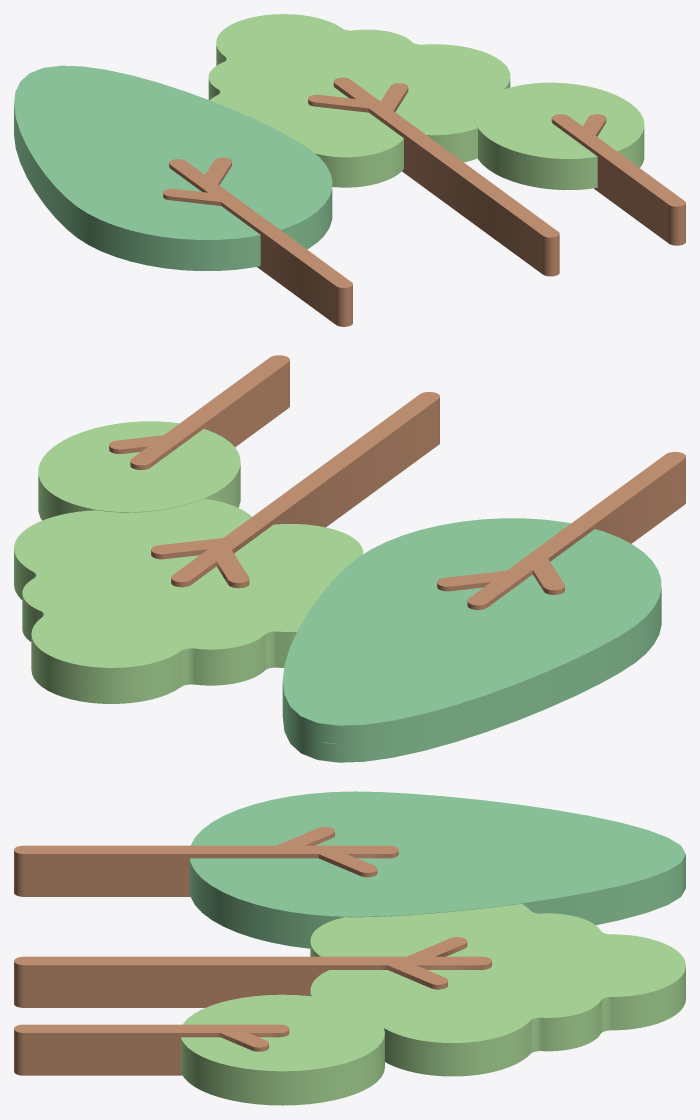
File: pohon2v2.fbx
3 renders of one model, top to bottom at view 1: azimuth 30°, elevation 25°; view 2: azimuth 150°, elevation 25°; view 3: azimuth 270°, elevation 25°, orthographic. The views are drawn at different scales.
Parts seen in each view (by area): view 1: Curve.006, Curve.003, Curve, Curve.005, Curve.008, Curve.002; view 2: Curve.006, Curve.003, Curve, Curve.005, Curve.008, Curve.002; view 3: Curve.006, Curve.003, Curve.005, Curve, Curve.008, Curve.002.
Part boxes in pixels (x1,y1,x2,y2): Curve.006: [14, 65, 332, 270]; Curve.003: [208, 14, 510, 187]; Curve: [474, 82, 644, 190]; Curve.005: [308, 77, 559, 276]; Curve.008: [163, 157, 352, 326]; Curve.002: [551, 114, 685, 245]; Curve.006: [282, 518, 661, 762]; Curve.003: [14, 498, 363, 703]; Curve: [38, 421, 240, 520]; Curve.005: [151, 392, 439, 588]; Curve.008: [437, 452, 685, 609]; Curve.002: [109, 355, 289, 469]; Curve.006: [189, 791, 685, 948]; Curve.003: [310, 903, 685, 1076]; Curve.005: [14, 937, 491, 1007]; Curve: [181, 994, 384, 1105]; Curve.008: [14, 827, 398, 896]; Curve.002: [14, 1024, 289, 1075].
Bounding box in the file's own units: 14.03 × 1 × 14.24.
